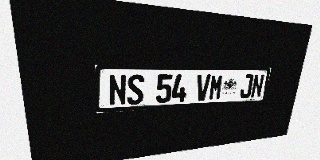4: (171, 74, 188, 102)
5: (156, 74, 173, 103)
J: (239, 74, 254, 99)
M: (208, 74, 224, 100)
N: (108, 74, 126, 106), (250, 74, 265, 98)
S: (127, 74, 144, 105)
V: (195, 74, 211, 101)
